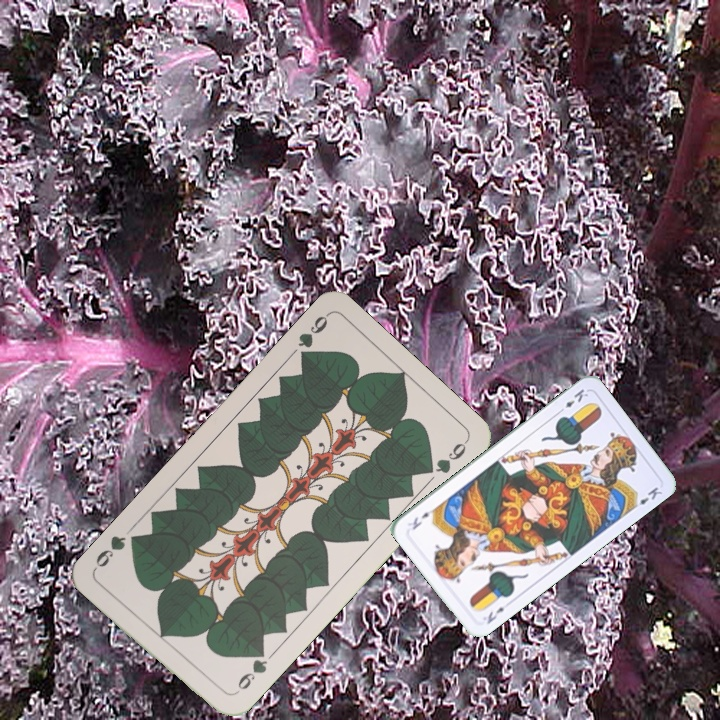EK: (554, 385, 591, 416), (482, 603, 507, 627)
G9: (228, 646, 270, 698), (294, 310, 331, 365)
